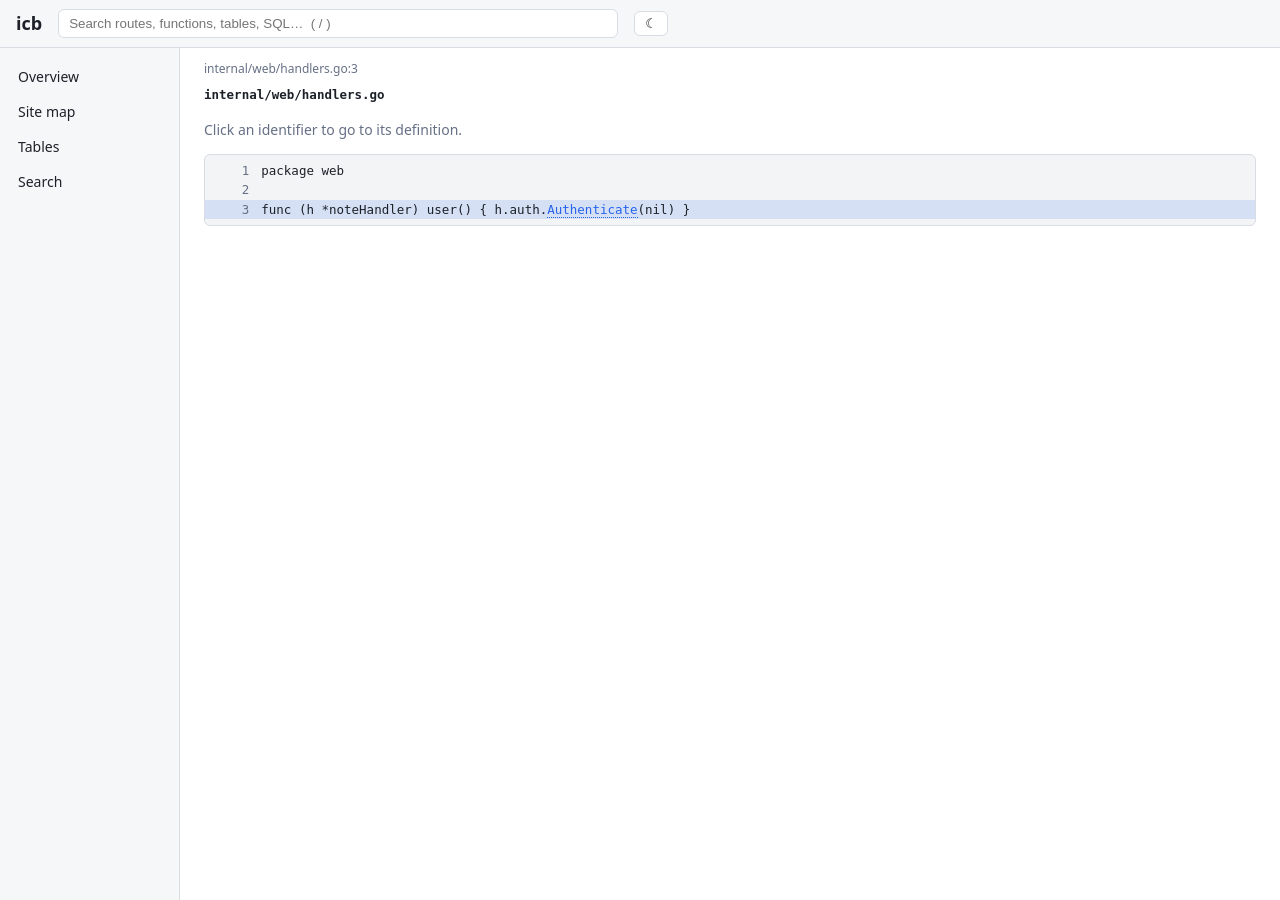
Test case: App › shows highlighted code with identifiers linked to definitions
This screenshot has width=1280, height=900.
expect the number of elements with class "line" is 3: met, box [242,163,344,178]; [242,182,249,197]; [205,200,1255,219]
expect the element with class "line" reads "3 func (h *noteHandler) user() { h.auth. Authenticate (nil) }": met, box [205,200,1255,219]
Hover over the link with class "ref" at (592, 210), box [547,202,638,218]
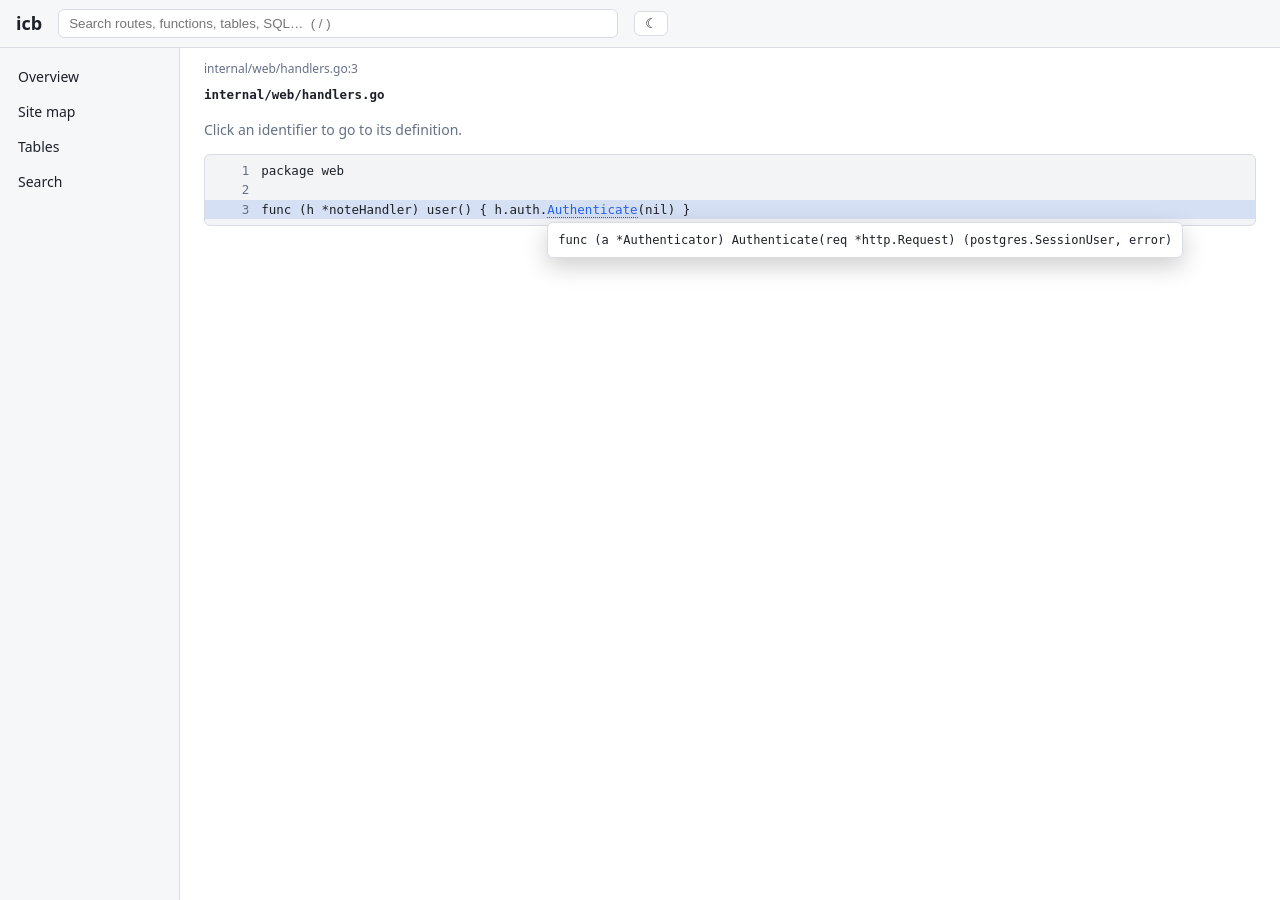
expect the text with class "lsp-tip" shows "func (a *Authenticator) Authenticate(req *http.Request) (postgres.SessionUser, error)": met, box [558,232,1172,246]
Right-click the link with class "ref" at (592, 210), box [547,202,638,218]
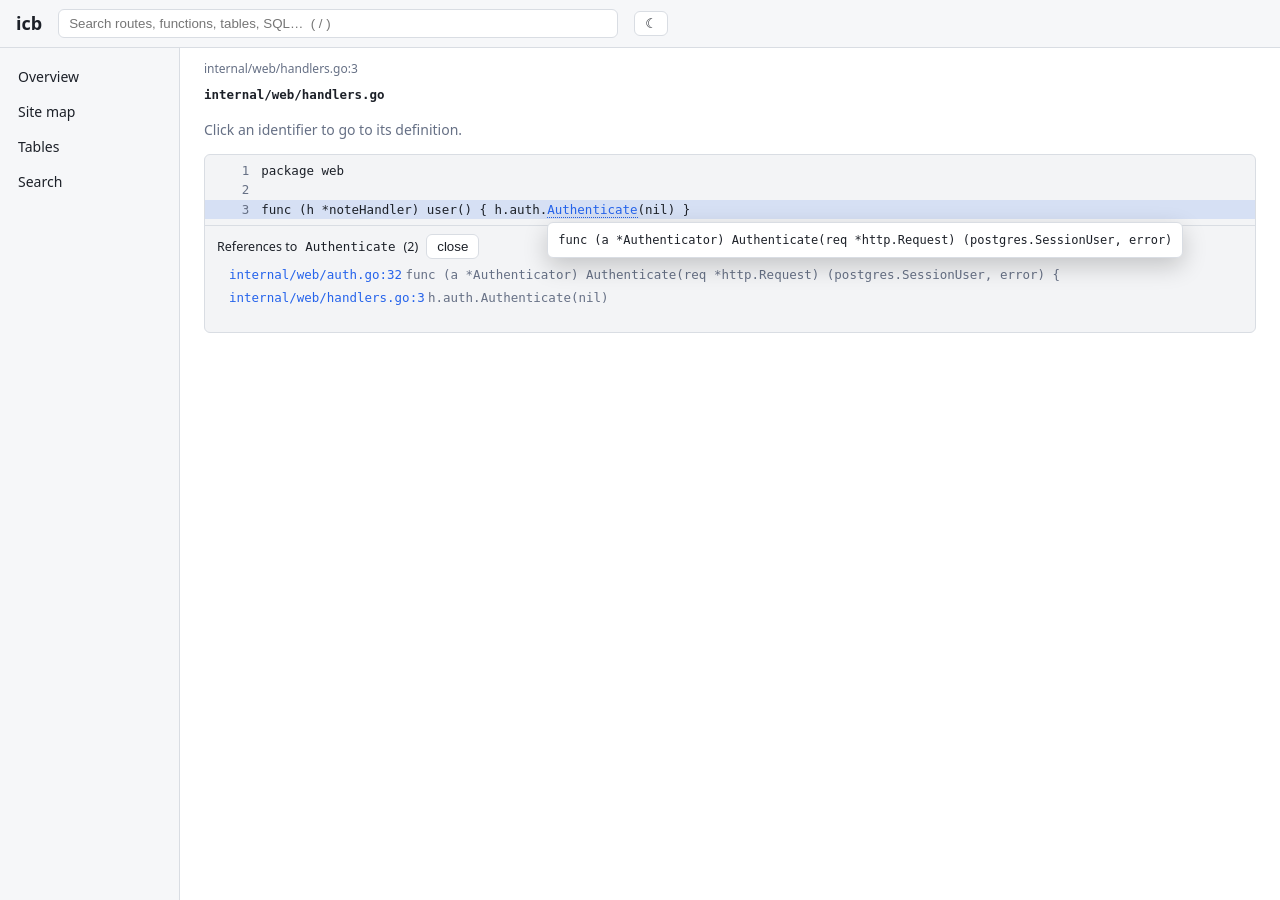
expect the element with class "usages-head" shows "References to Authenticate (2)": met, box [217,234,479,259]
